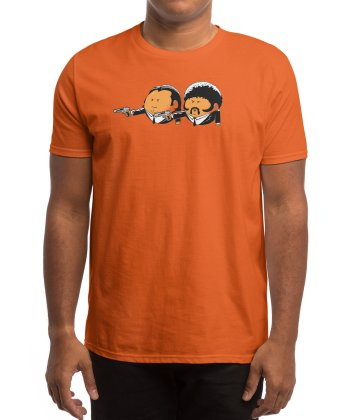design: (111, 81, 225, 130)
